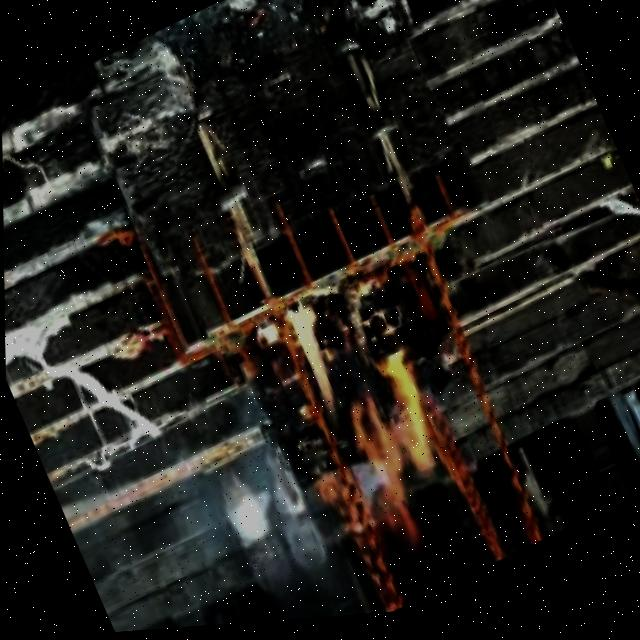Fire: (270, 265, 470, 569)
